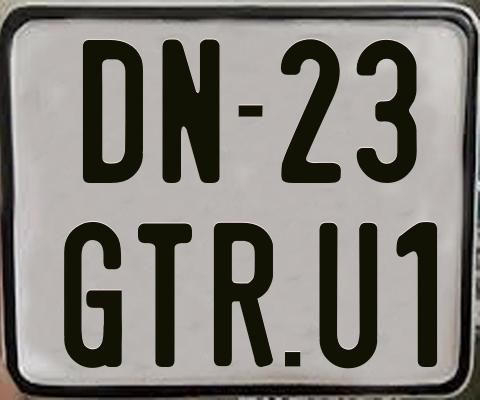1: (395, 219, 439, 368)
2: (280, 39, 340, 186)
3: (356, 40, 417, 188)
D: (82, 38, 145, 187)
G: (61, 221, 123, 368)
N: (161, 38, 221, 184)
R: (214, 220, 277, 365)
T: (136, 223, 194, 369)
U: (317, 220, 377, 371)
